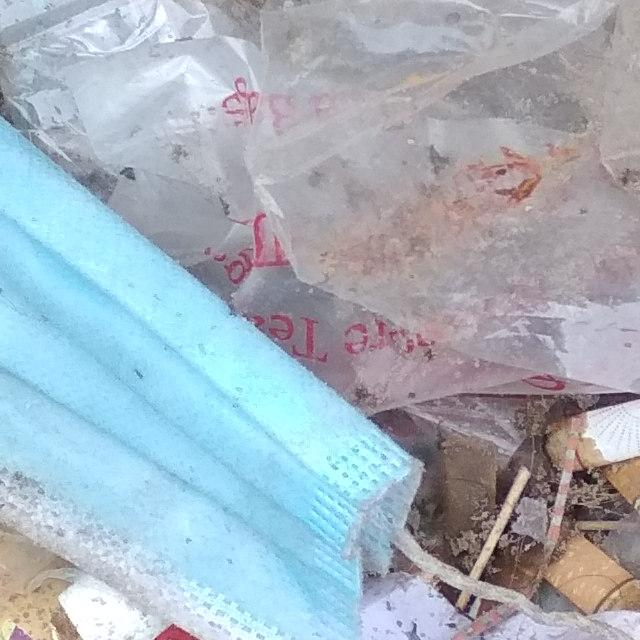paper: (0, 0, 640, 640)
plastic: (204, 0, 640, 451)
